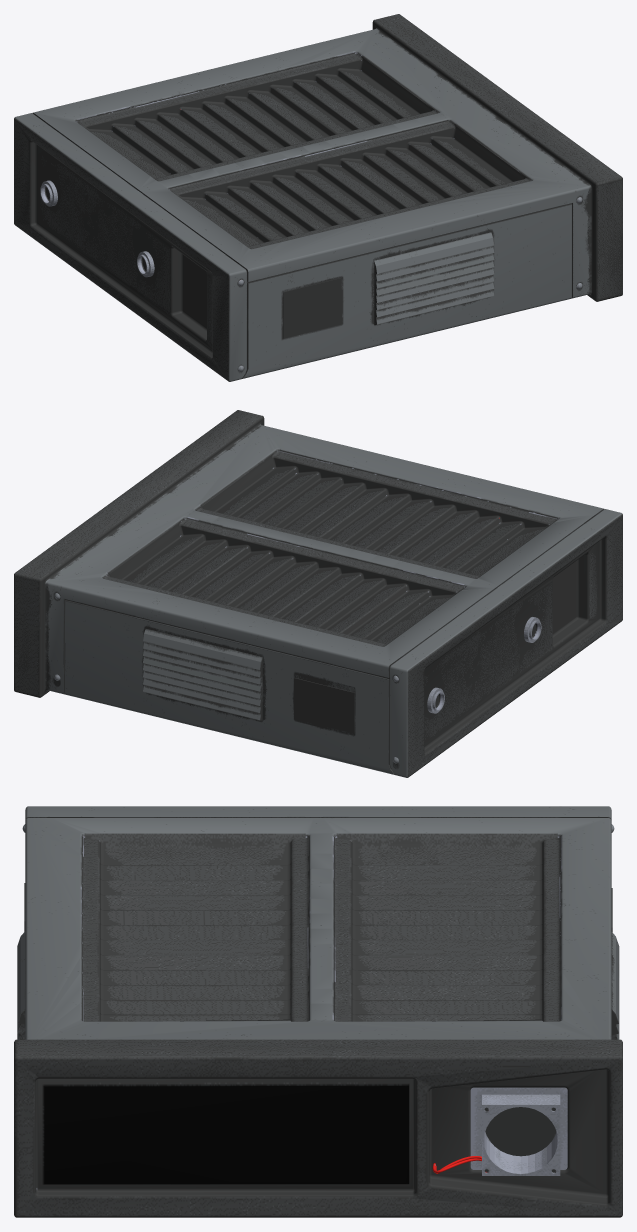
The model's file is printer.fbx.
The picture shows the model from 3 angles, top to bottom: view 1: azimuth 30°, elevation 25°; view 2: azimuth 150°, elevation 25°; view 3: azimuth 270°, elevation 25°; orthographic projection. The views are drawn at different scales.
Visible parts, largest first — view 1: Fluent_Wire.002; view 2: Fluent_Wire.002; view 3: Fluent_Wire.002.
Boxes of the visible parts, x1,y1,x2,y2 form: Fluent_Wire.002: (14,14,622,381); Fluent_Wire.002: (14,410,622,777); Fluent_Wire.002: (14,806,622,1217).
Size of the model in its own units: 34.76 by 10.04 by 34.23.
